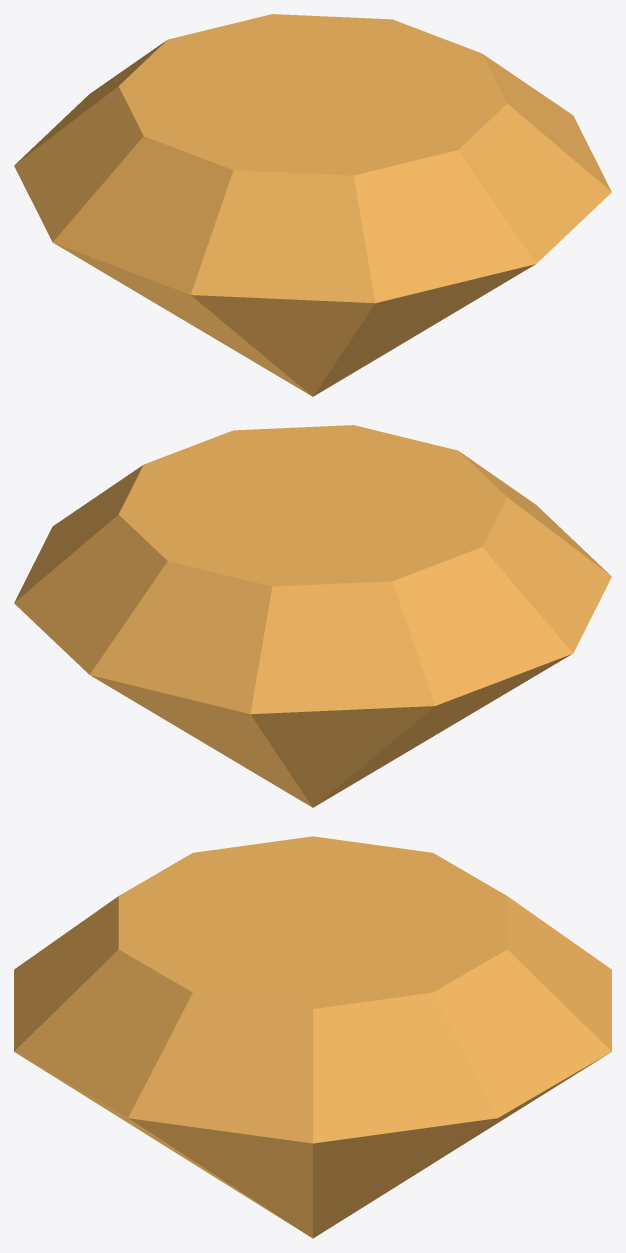
File: Diamond_03.fbx
3 views of the same model, one above another, from view 1: azimuth 30°, elevation 25°; view 2: azimuth 150°, elevation 25°; view 3: azimuth 270°, elevation 25° (orthographic). The views are drawn at different scales.
Parts seen in each view (by area): view 1: Diamond_03; view 2: Diamond_03; view 3: Diamond_03.
Boxes of the visible parts, bbox=[...] form: Diamond_03: bbox=[14, 14, 611, 396]; Diamond_03: bbox=[14, 425, 611, 807]; Diamond_03: bbox=[14, 836, 611, 1238].
Size of the model in its own units: 374 by 207 by 356.
